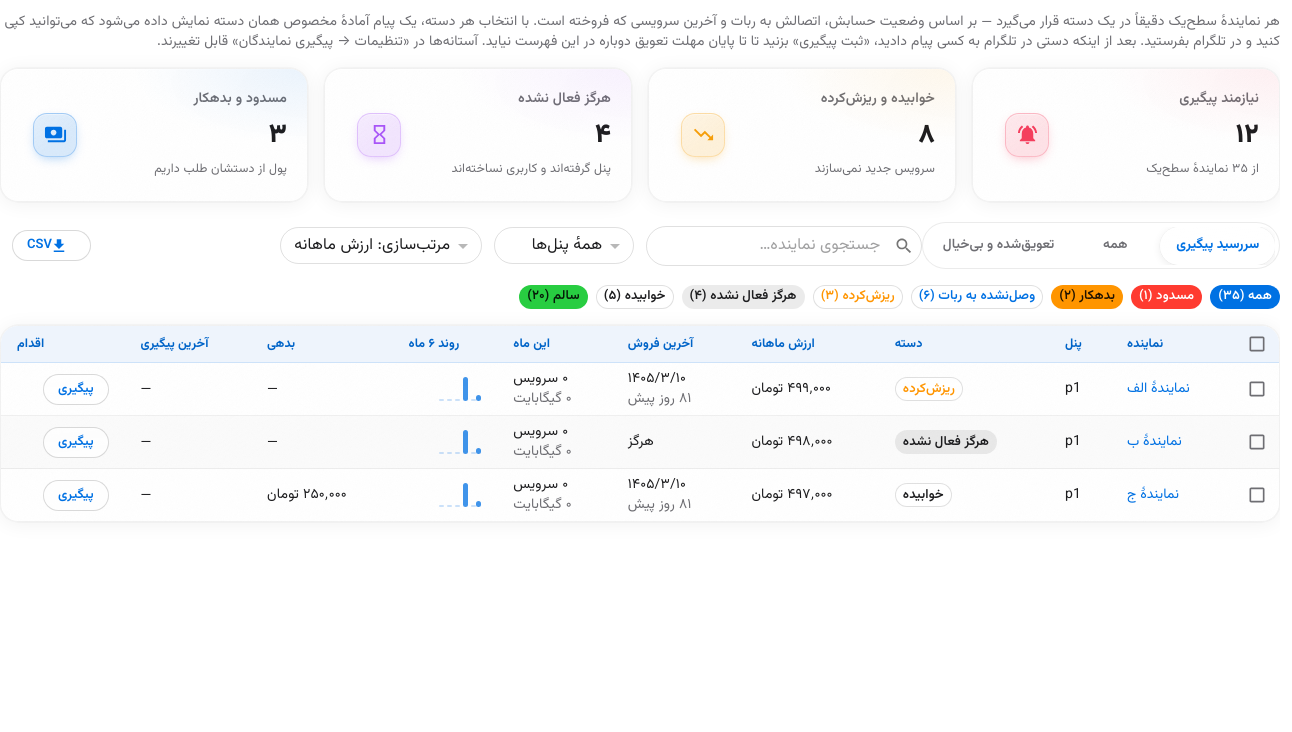
reseller follow-up board › offers the bucket's ready-made message, copyable, only once a bucket is picked
The width and height of the screenshot is (1292, 732).
Expected: the button "نمایندهٔ الف" is shown, 1127,379 -> 1190,399
Expected: the button "کپی متن پیام" is not shown
Click the button "خوابیده (۵)".
click(635, 297)  # box 596,285 -> 674,309
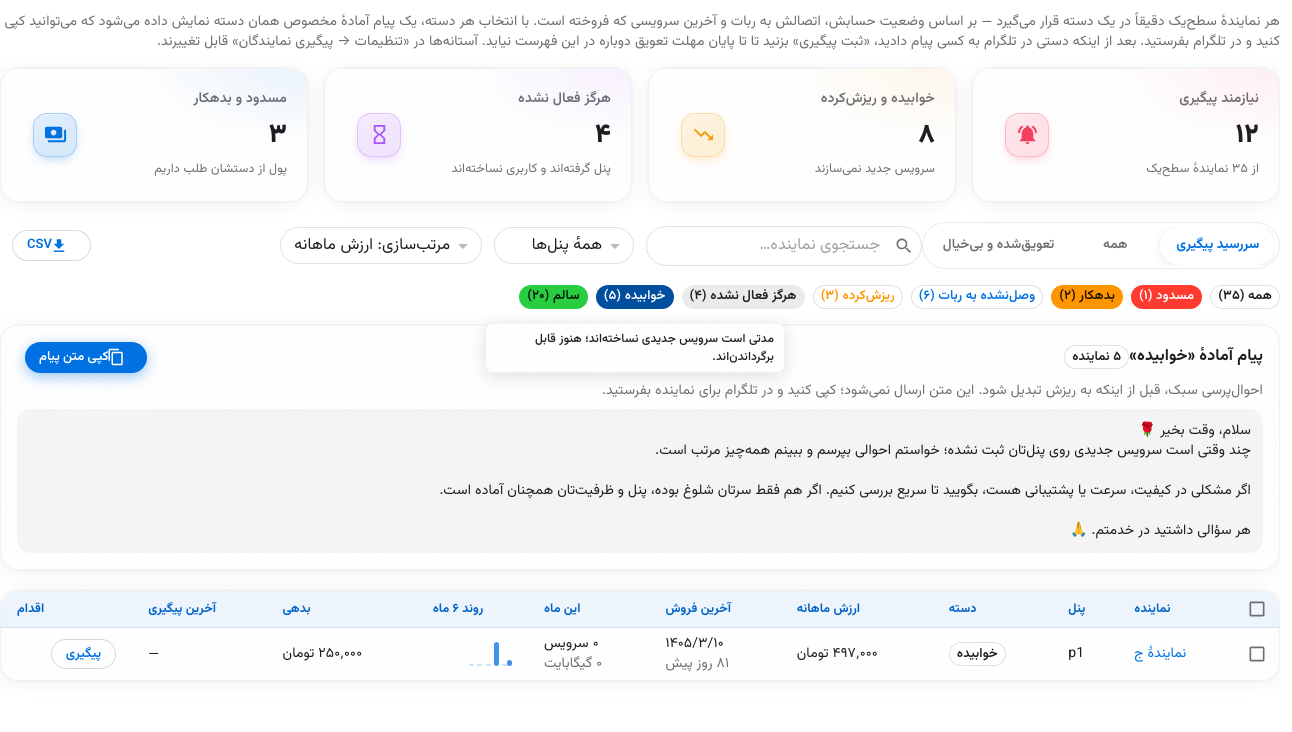
Now the text "پیام آمادهٔ «خوابیده»" is shown, box 1129,346 -> 1263,370
Click the button "کپی متن پیام".
click(86, 358)  # box 25,342 -> 146,373
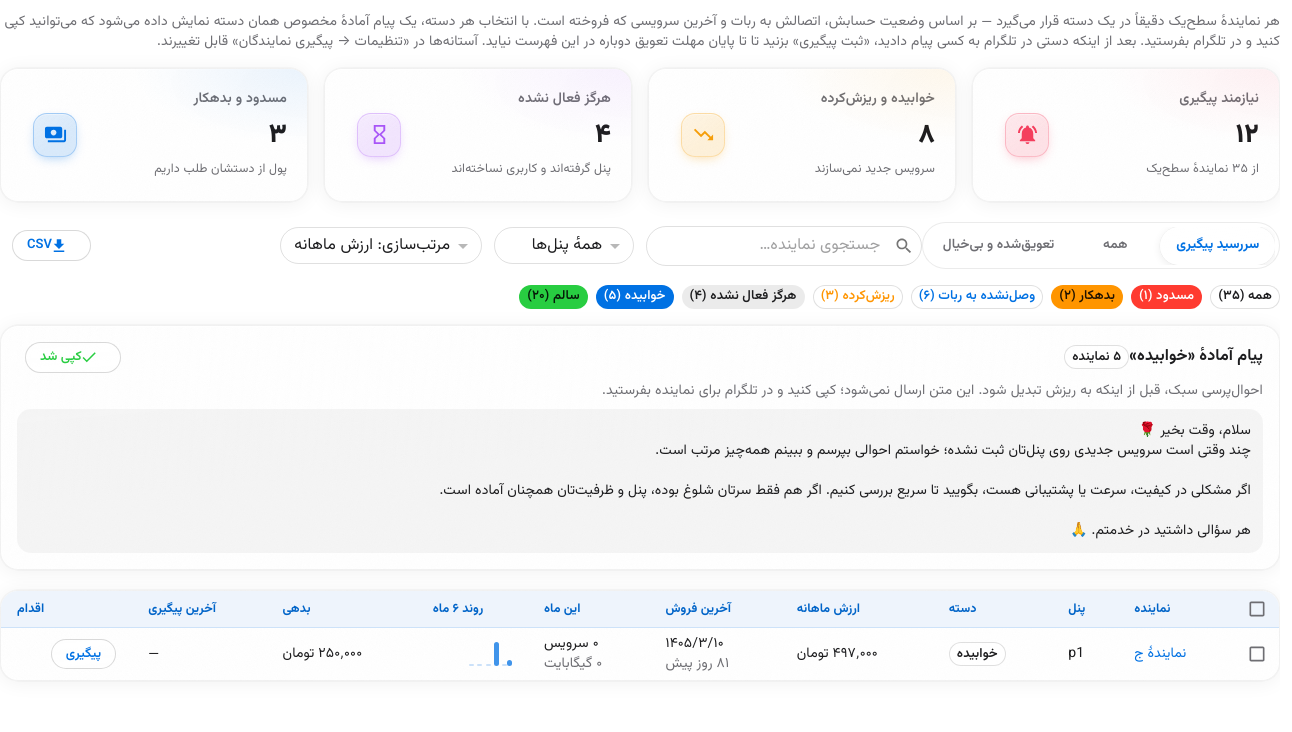
Now the button "کپی شد" is shown, box 25,342 -> 121,373
